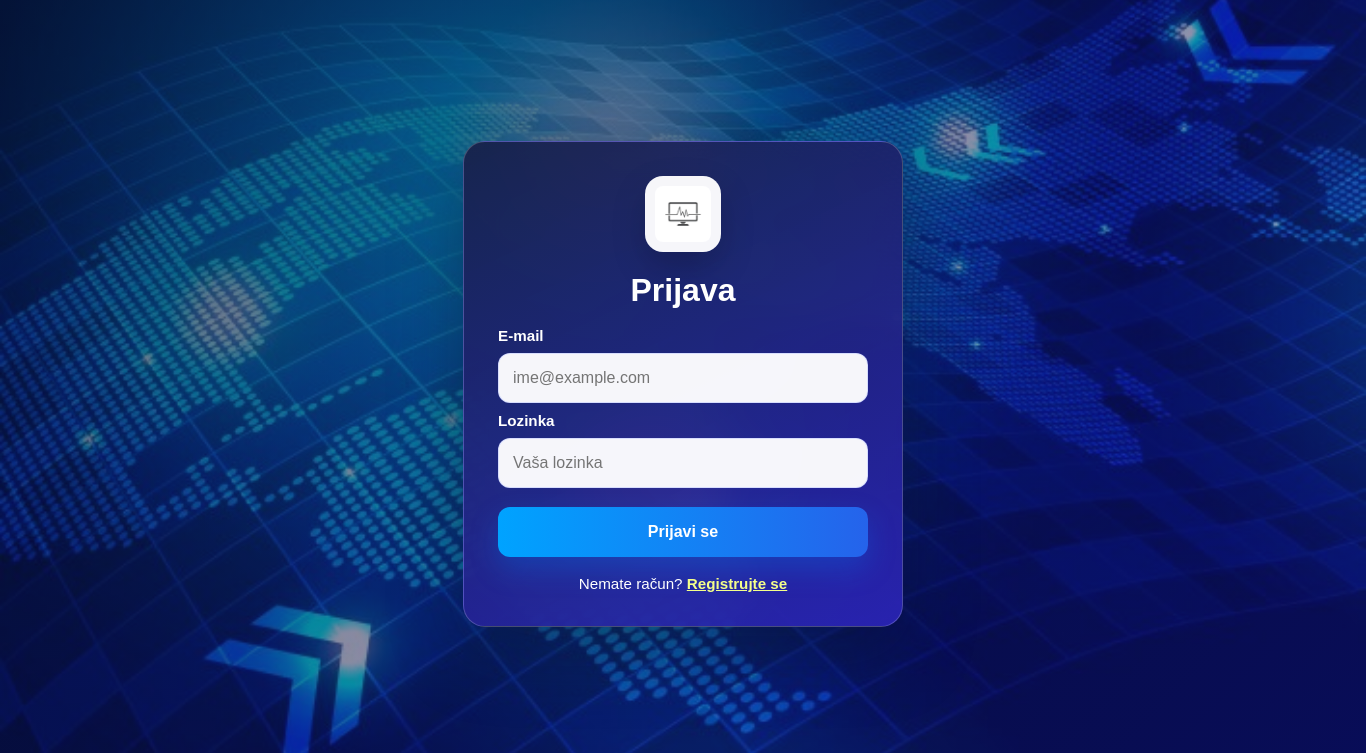
Test: registration shows server offline message
Click the link "Registrujte se": (737, 584) [687,575,787,592]
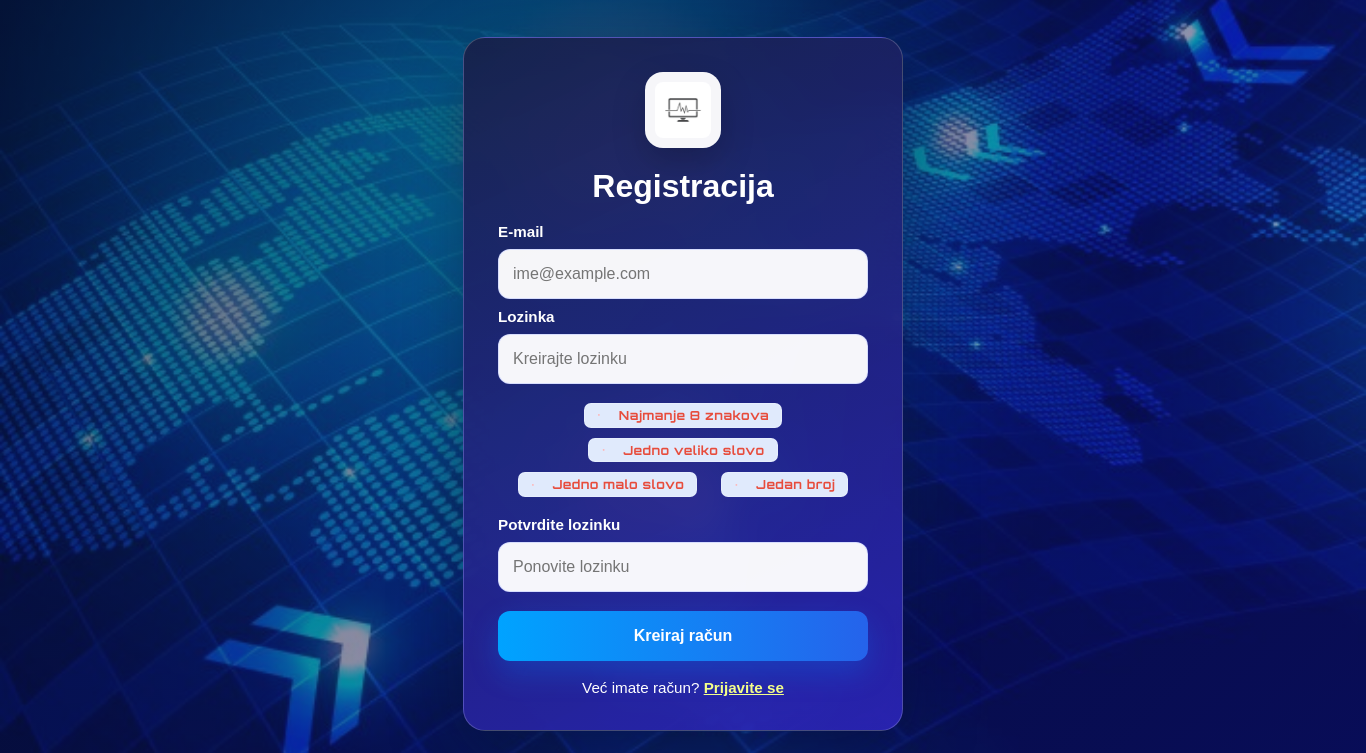
In the field labelled "E-mail": (683, 274) [498,248,868,298], type "new@example.com"
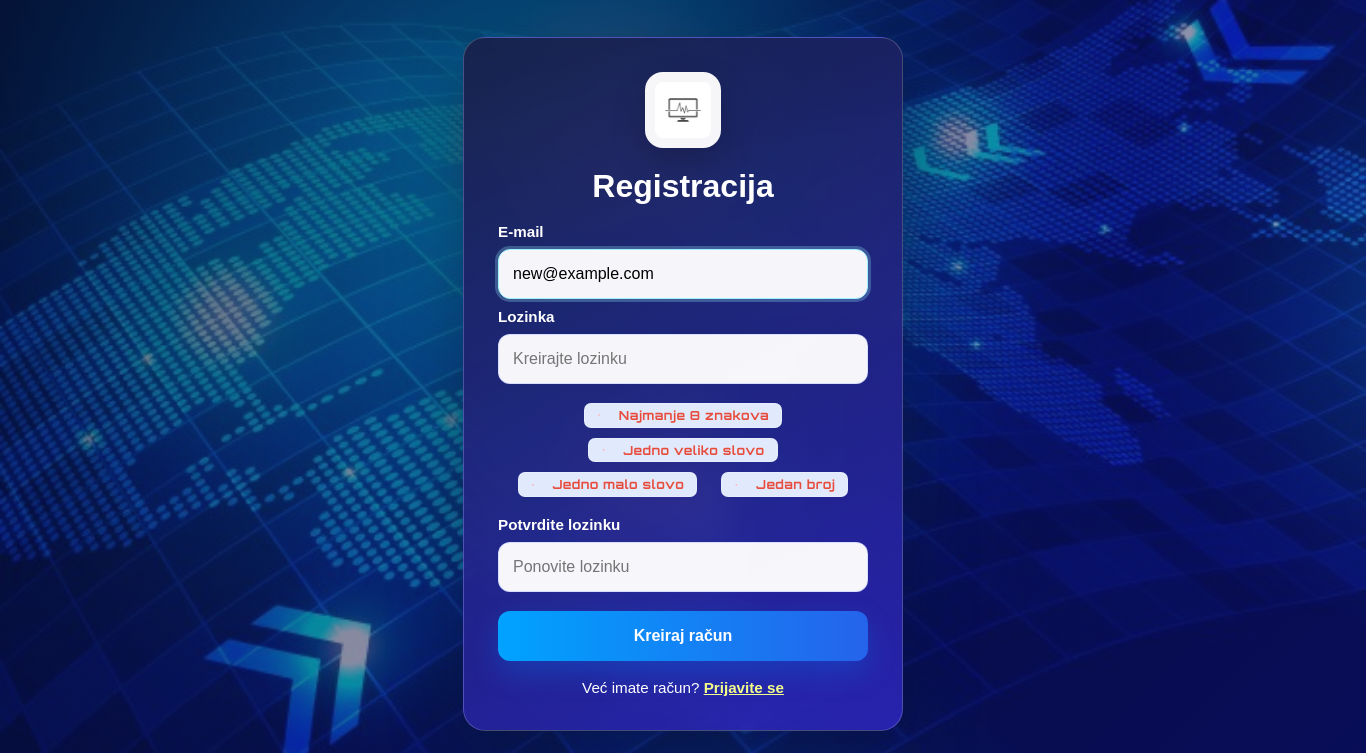
In the password field labelled "Lozinka": (683, 358) [498,334,868,384], type "Password123"
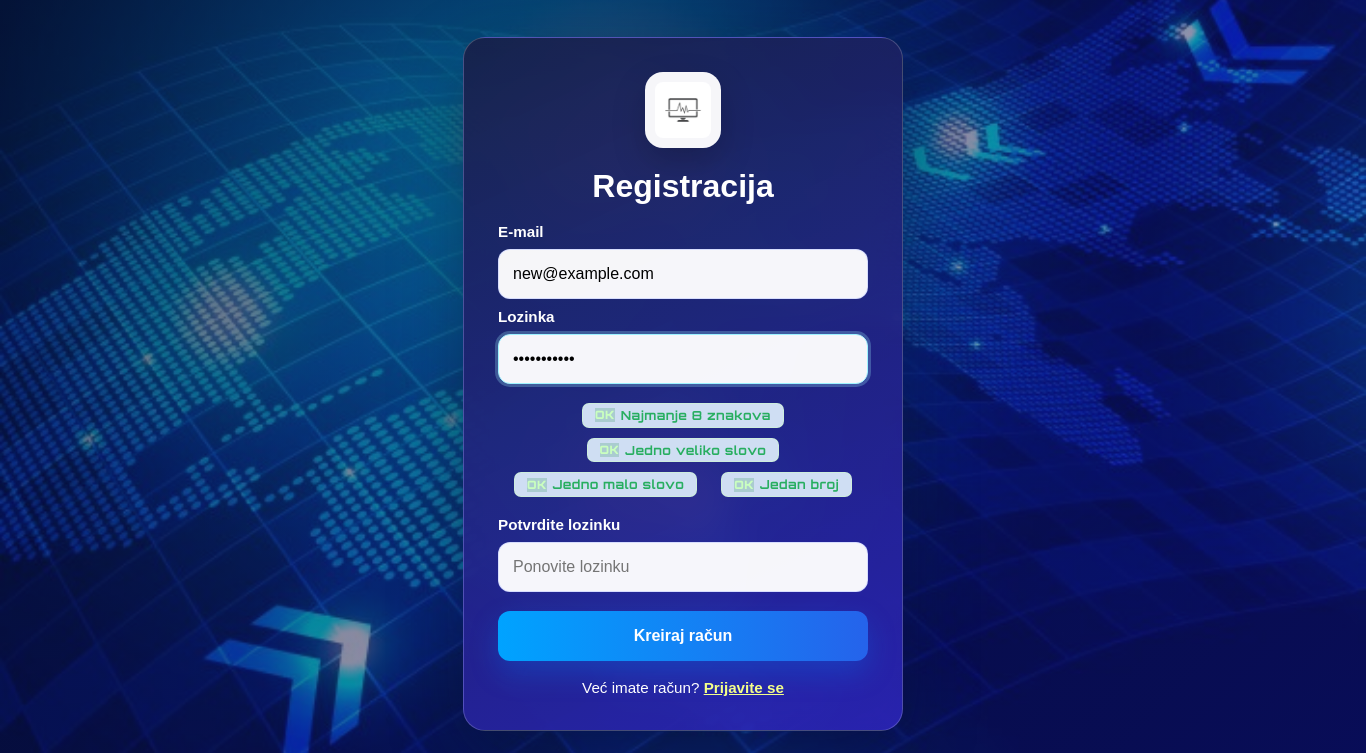
In the password field labelled "Potvrdite lozinku": (683, 568) [498,542,868,592], type "Password123"
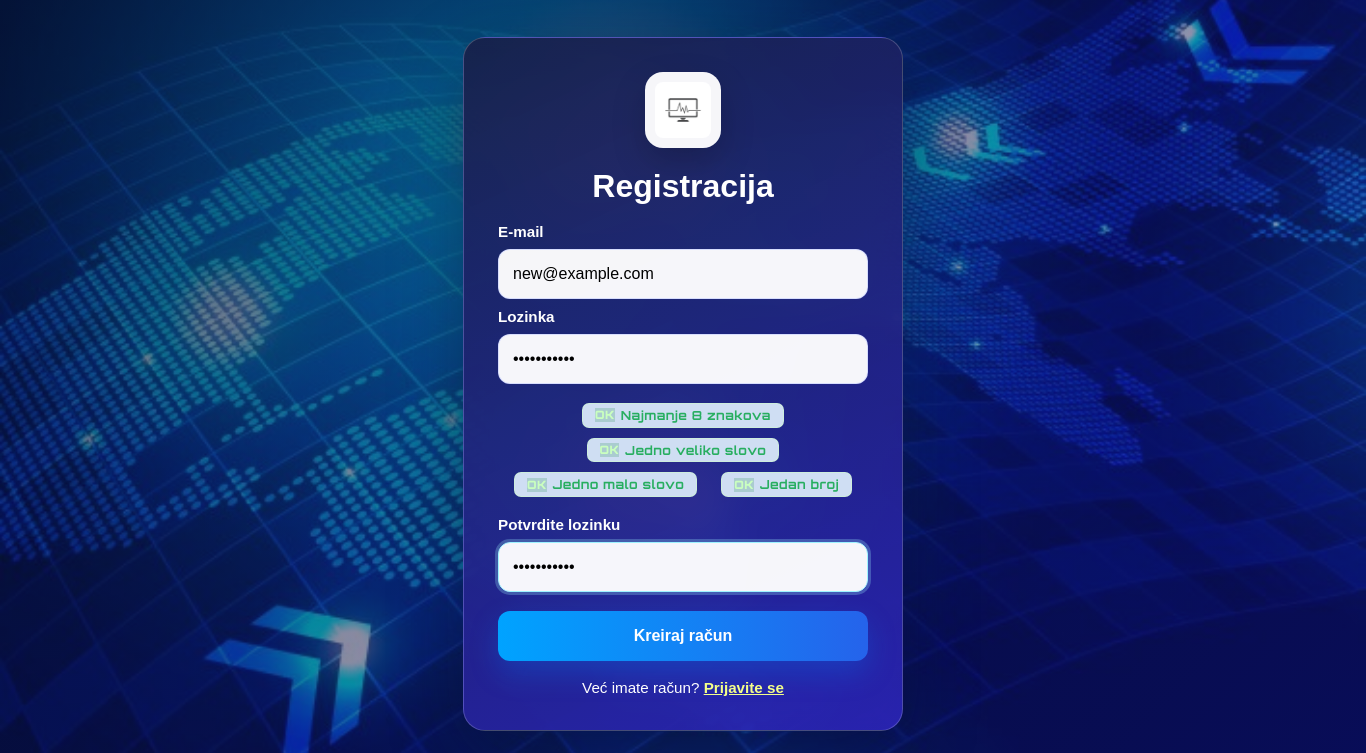
Click the button "Kreiraj račun": (683, 636) [498,612,868,662]
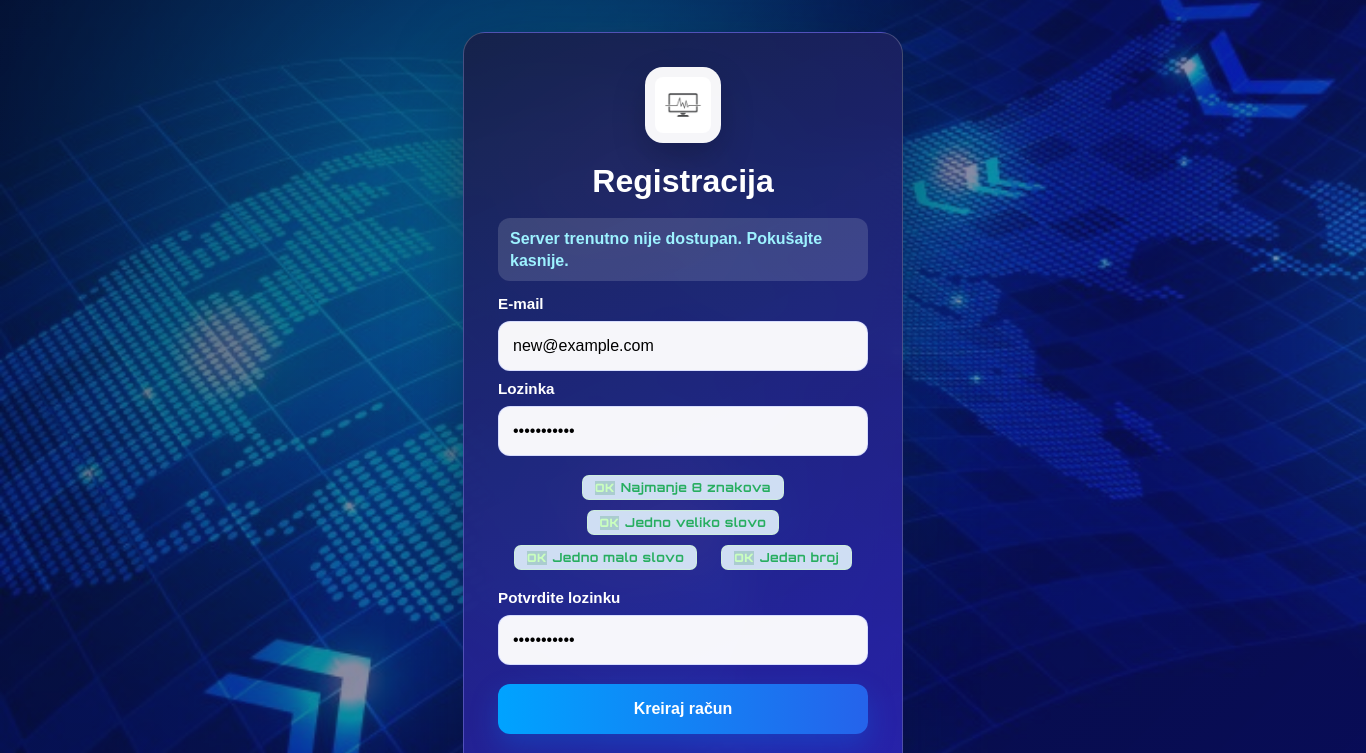
Now the message shows "Server trenutno nije dostupan", box [510,230,822,269]
